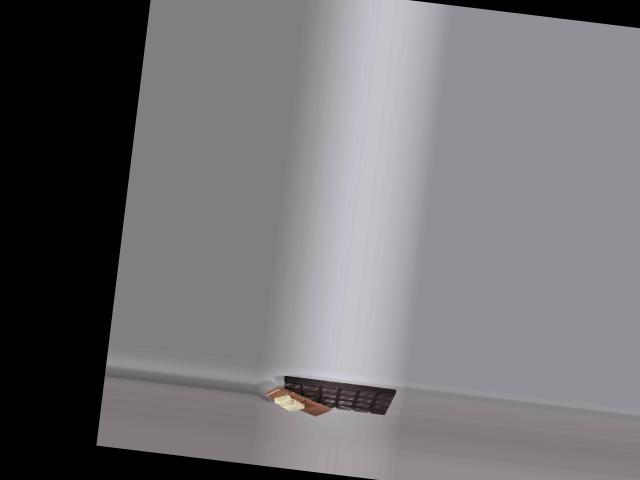chocolate: (273, 371, 397, 420)
